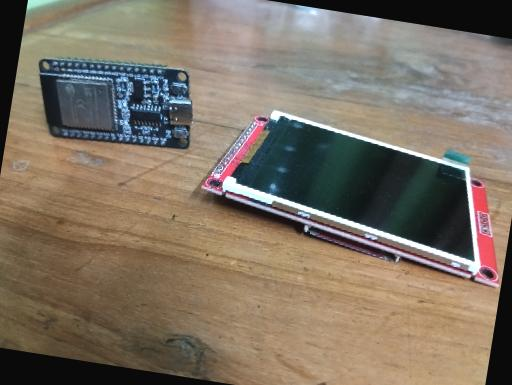Display: (191, 98, 512, 289)
Esp32: (28, 42, 202, 158)
